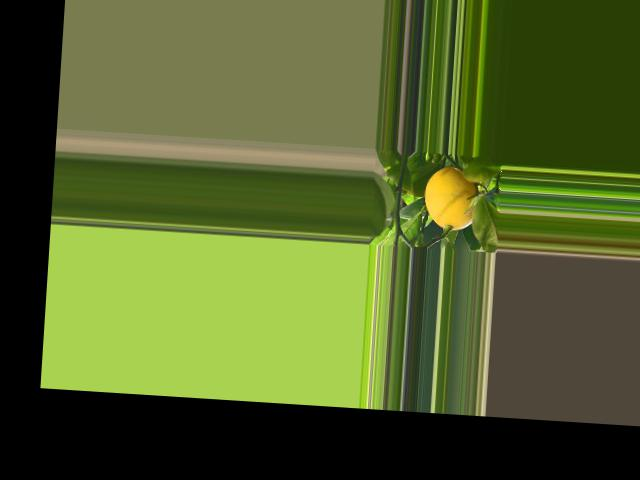lemon: (421, 164, 480, 235)
